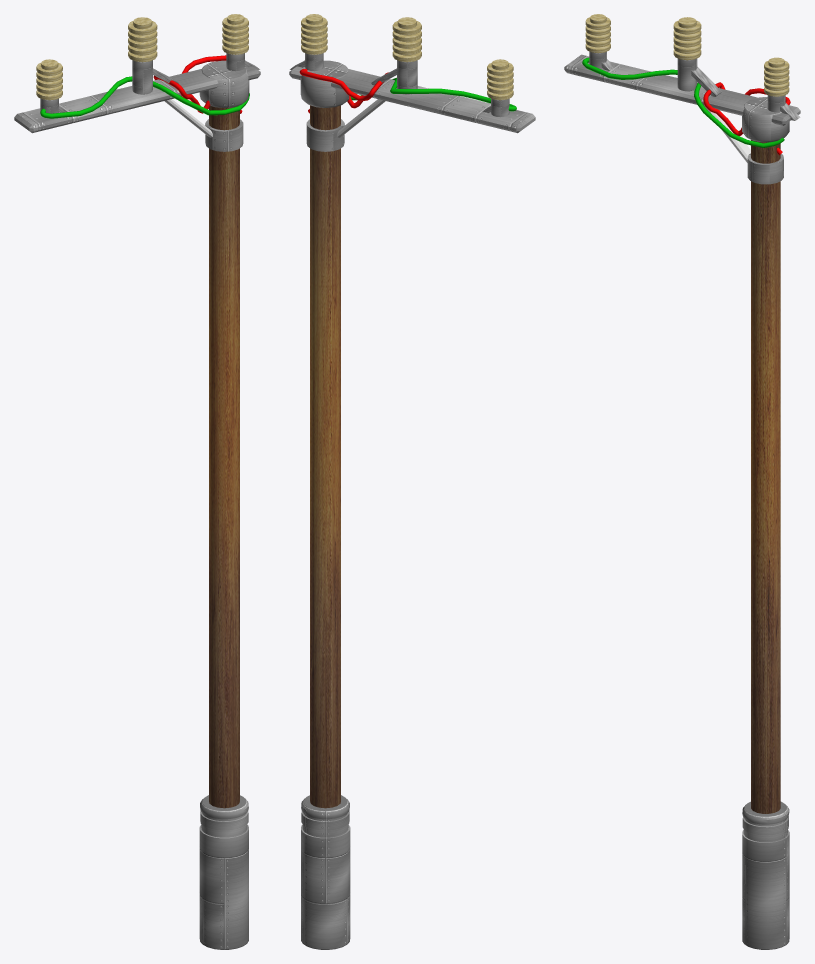
File: static.glb
3 renders of one model, left to right at view 1: azimuth 30°, elevation 25°; view 2: azimuth 150°, elevation 25°; view 3: azimuth 330°, elevation 25°, orthographic. The views are drawn at different scales.
Visible parts, largest first — view 1: Cylinder_1, Cylinder_5, Cube_1, Cylinder, Sweep_1, Cylinder_2_2, Cylinder_3_3_3, Sweep; view 2: Cylinder_1, Cylinder_5, Cube_1, Cylinder, Cylinder_2_2, Sweep_1, Sweep, Cylinder_3_3_3; view 3: Cylinder_1, Cylinder_5, Cube_1, Cylinder, Sweep_1, Cylinder_2_2, Cylinder_3_3_3, Sweep.
Boxes of the visible parts, x1,y1,x2,y2 form: Cylinder_1: [209, 106, 239, 808]; Cylinder_5: [199, 795, 248, 949]; Cube_1: [14, 66, 260, 133]; Cylinder: [199, 60, 249, 107]; Sweep_1: [40, 76, 249, 118]; Cylinder_2_2: [205, 119, 243, 151]; Cylinder_3_3_3: [132, 60, 152, 94]; Sweep: [153, 55, 242, 113]; Cylinder_1: [310, 105, 340, 808]; Cylinder_5: [301, 795, 350, 949]; Cube_1: [289, 66, 535, 133]; Cylinder: [300, 60, 349, 107]; Cylinder_2_2: [306, 119, 344, 151]; Sweep_1: [351, 77, 516, 111]; Sweep: [299, 69, 388, 113]; Cylinder_3_3_3: [397, 60, 417, 94]; Cylinder_1: [751, 140, 780, 813]; Cylinder_5: [742, 801, 789, 949]; Cube_1: [564, 54, 800, 125]; Cylinder: [742, 97, 789, 142]; Sweep_1: [582, 57, 784, 147]; Cylinder_2_2: [747, 153, 783, 184]; Cylinder_3_3_3: [677, 58, 697, 91]; Sweep: [703, 82, 790, 155].
Bounding box in the file's own units: 2.17 × 8.23 × 0.4167.
Materials: 5 (5 with a texture image).
